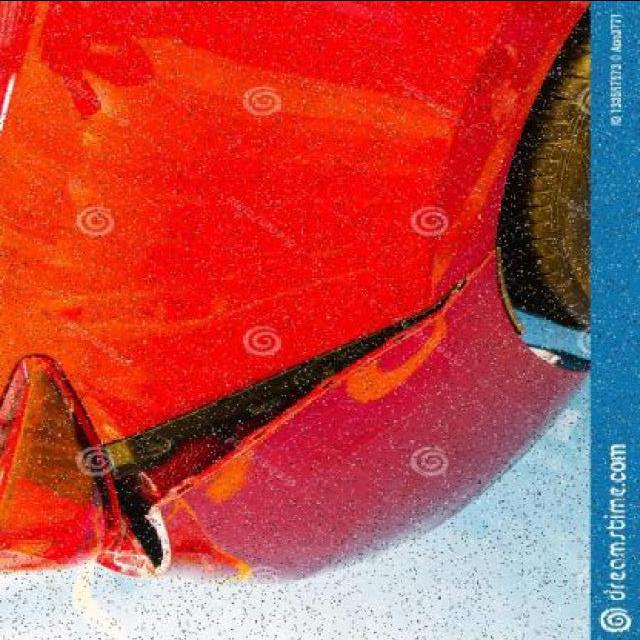rear-bumper-dent: (66, 251, 527, 623)
